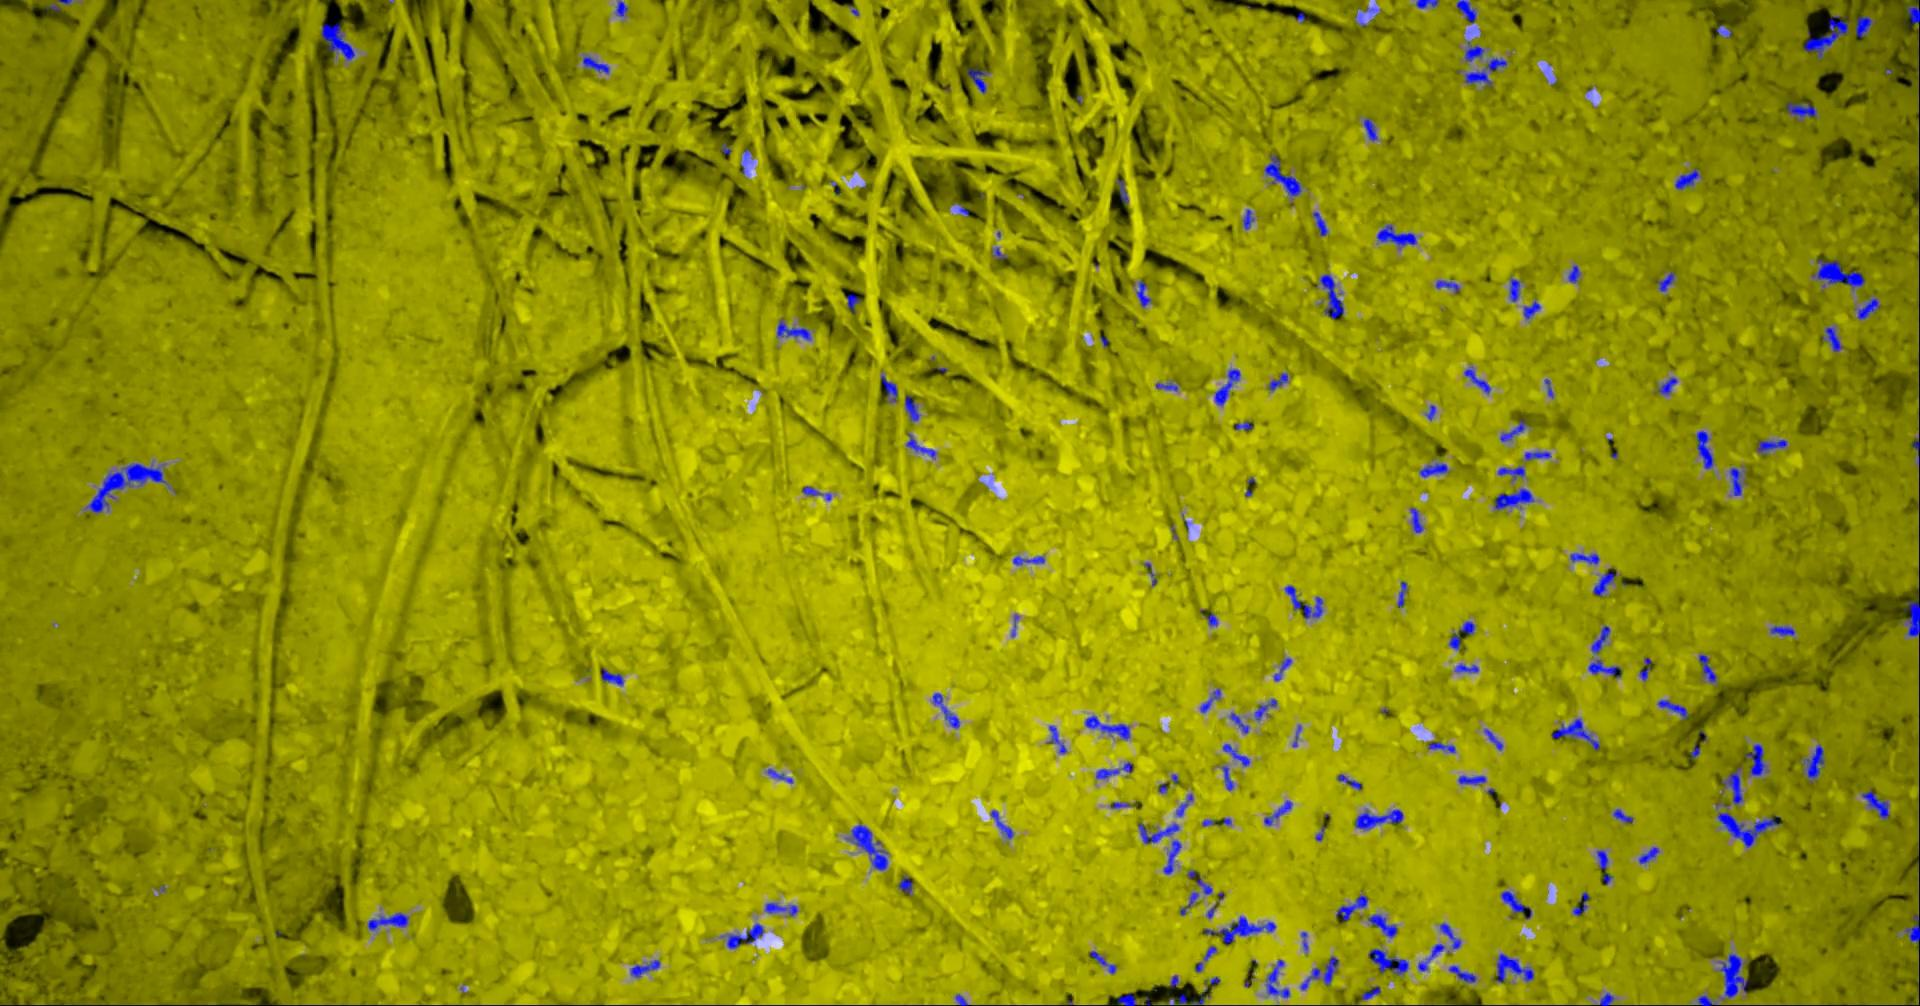ant: (1717, 812, 1782, 847), (1203, 916, 1275, 944), (844, 824, 888, 870), (1803, 15, 1848, 58), (1263, 152, 1302, 196), (1812, 259, 1864, 290), (1550, 718, 1599, 749), (320, 22, 354, 60), (1299, 956, 1338, 989), (1719, 953, 1749, 997), (1284, 586, 1322, 619), (1464, 57, 1506, 85), (1368, 948, 1408, 976), (1495, 953, 1533, 982), (1319, 273, 1343, 318), (1084, 715, 1129, 739), (721, 923, 763, 948), (1354, 809, 1402, 829), (1377, 224, 1416, 248), (1493, 486, 1533, 511), (932, 692, 959, 728), (1214, 368, 1239, 405), (1500, 890, 1531, 920), (1265, 959, 1289, 997), (1719, 766, 1742, 804), (1862, 789, 1890, 819), (1137, 823, 1178, 843), (1335, 895, 1368, 920), (776, 318, 810, 340), (905, 432, 935, 459), (1803, 744, 1823, 782), (1417, 942, 1444, 970), (367, 912, 408, 930), (1263, 800, 1291, 826), (1592, 567, 1617, 594), (1368, 915, 1397, 937), (1695, 431, 1713, 467), (1162, 840, 1181, 874), (1745, 743, 1765, 775), (1463, 368, 1490, 392), (1498, 418, 1526, 441), (1222, 743, 1250, 766), (990, 810, 1013, 838), (1657, 699, 1688, 719), (1587, 659, 1622, 677), (1167, 991, 1209, 1005), (1187, 870, 1211, 894), (1090, 950, 1115, 973), (1903, 600, 1919, 636), (1674, 168, 1699, 189), (1439, 922, 1460, 948), (1785, 102, 1816, 119), (1903, 913, 1919, 949), (1590, 625, 1609, 653), (1046, 725, 1065, 753), (968, 69, 989, 93), (1821, 326, 1843, 351), (1199, 688, 1220, 713), (630, 959, 659, 977), (582, 55, 610, 72), (1698, 654, 1716, 682), (1857, 298, 1879, 319), (1448, 965, 1476, 982), (801, 485, 830, 500), (880, 375, 897, 401), (1854, 15, 1874, 37), (1464, 39, 1484, 61), (1255, 699, 1276, 719), (1457, 0, 1476, 23), (1272, 657, 1291, 680), (1178, 892, 1197, 915), (1730, 467, 1745, 495), (764, 902, 797, 915), (1483, 728, 1502, 749), (1756, 439, 1785, 453), (1418, 462, 1448, 476), (904, 394, 919, 420), (1175, 793, 1192, 815), (599, 668, 623, 685), (1337, 774, 1361, 790), (1572, 890, 1589, 915), (1656, 271, 1675, 291), (1229, 713, 1248, 733), (1137, 279, 1150, 306), (1497, 466, 1524, 480), (766, 768, 792, 782), (1312, 211, 1327, 235), (1657, 376, 1677, 394), (1410, 507, 1423, 532), (1269, 372, 1288, 390), (1638, 846, 1658, 862), (1570, 553, 1599, 564), (1012, 555, 1044, 565), (1427, 741, 1455, 752), (1523, 300, 1540, 318), (1435, 279, 1459, 292), (44, 0, 71, 11), (1363, 118, 1377, 140), (1906, 3, 1919, 25), (1116, 178, 1128, 203), (1222, 765, 1233, 790), (897, 875, 912, 894), (1611, 808, 1632, 822), (1360, 984, 1380, 998), (844, 293, 858, 312), (1639, 657, 1651, 680), (1769, 625, 1794, 635), (1457, 775, 1484, 784), (1095, 768, 1119, 779), (1397, 580, 1406, 607), (1509, 278, 1519, 301), (1116, 993, 1137, 1005), (1567, 264, 1580, 282), (1242, 210, 1253, 229), (1596, 850, 1608, 869), (1454, 663, 1478, 672), (615, 0, 627, 17), (1524, 451, 1550, 459), (1716, 24, 1731, 37), (1459, 621, 1474, 634), (1448, 634, 1460, 649), (1599, 992, 1614, 1005), (1697, 995, 1716, 1005), (1234, 420, 1252, 431), (1415, 0, 1437, 8), (1156, 382, 1177, 390), (1917, 28, 1919, 95)
